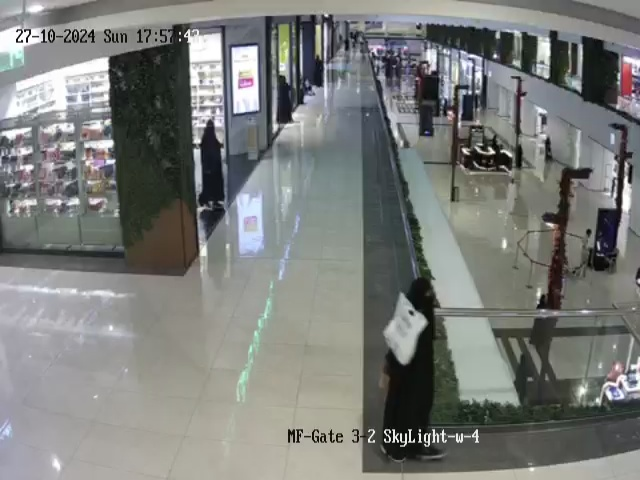female: (379, 277, 447, 463), (196, 108, 232, 220), (275, 74, 299, 133), (531, 287, 551, 350), (513, 348, 533, 405), (311, 46, 329, 96), (510, 143, 528, 171), (488, 132, 505, 155), (543, 134, 552, 163), (342, 38, 350, 54)
male: (578, 226, 594, 278), (502, 177, 519, 215)
